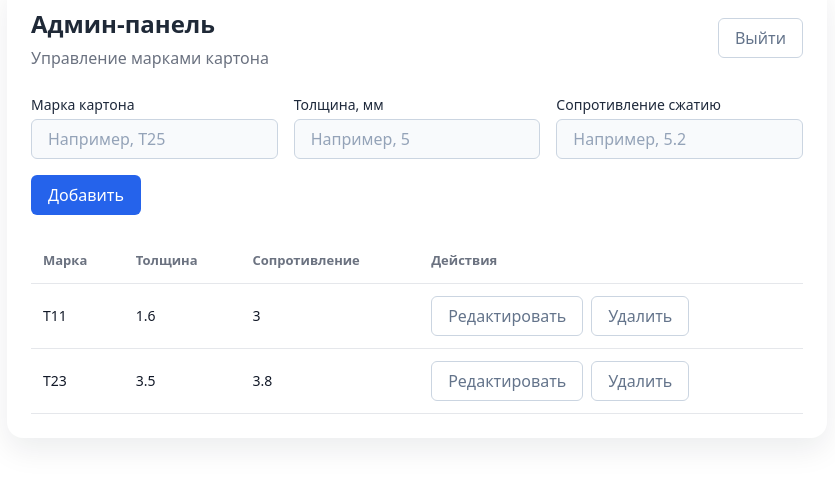
Test: AdminPanel › добавляет новую марку картона и показывает success-сообщение
Type "Т25" into the field with test id "input-field" showing "Марка картона". click: (154, 139)
box: [31, 119, 278, 159]
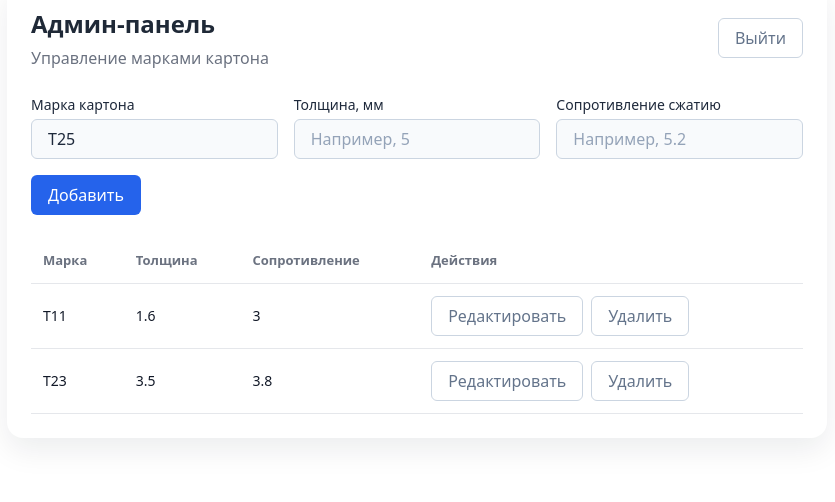
Type "5" into the number field with test id "input-field" showing "Толщина, мм". click: (417, 139)
box: [294, 119, 540, 159]
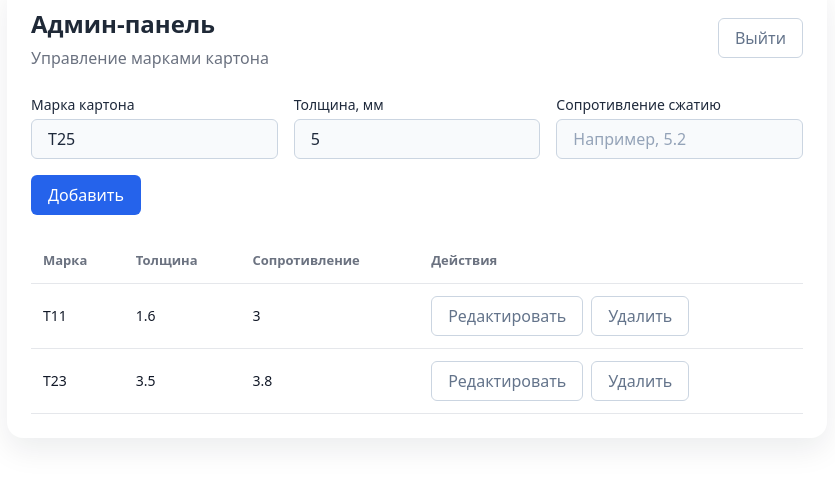
Type "5.2" into the number field with test id "input-field" showing "Сопротивление сжатию". click: (680, 139)
box: [556, 119, 803, 159]
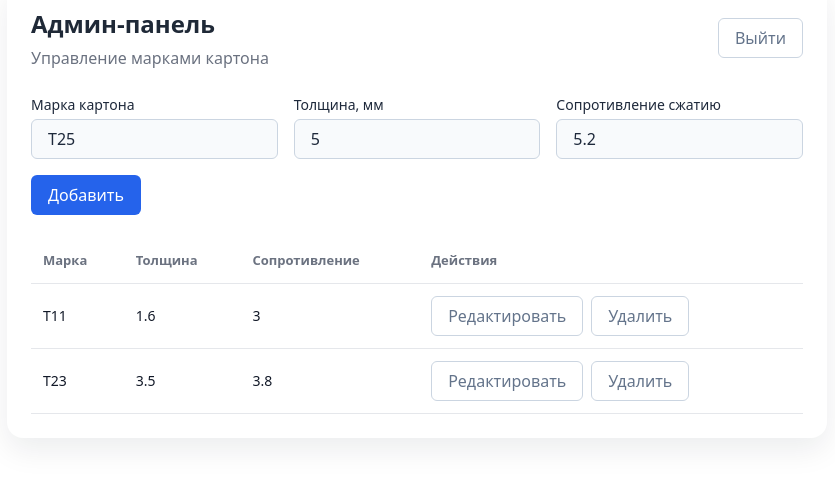
Submit the form, box [31, 94, 803, 215]
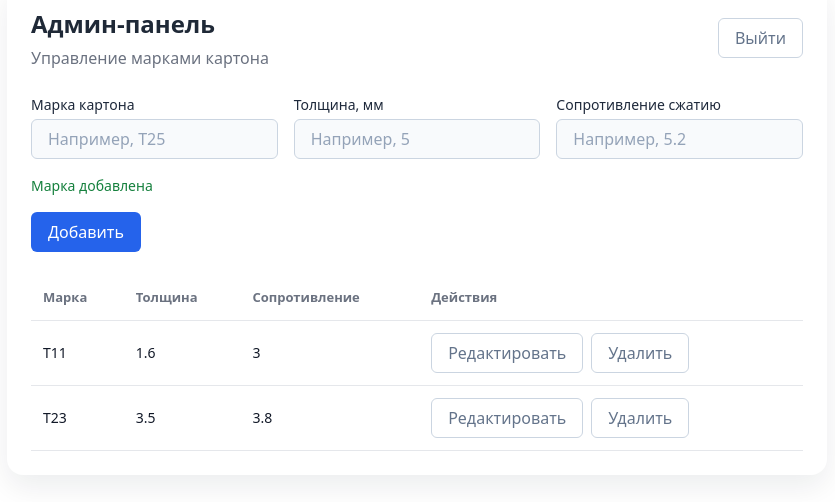
Check: the text "Марка добавлена" is shown, box [31, 176, 153, 195]
